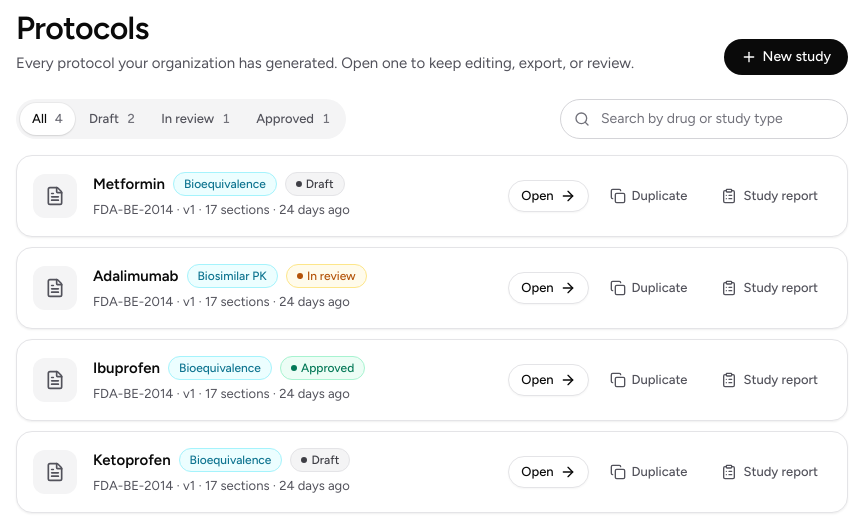
Test: Protocols page (ReportsView) › search filters by drug, brand name and study type, and combines with the tab
The width and height of the screenshot is (865, 531).
Expected: the heading "Metformin" is shown, [93,172,165,196]
Type "adal" into the search field with placeholder "Search by drug or study type". click: coordinates (704, 119)
box: [560,99,848,139]
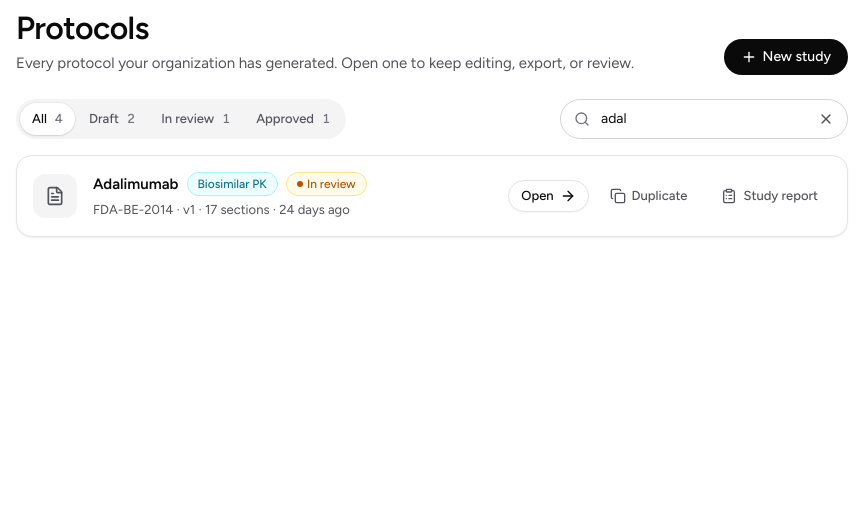
Replace the text in the search field named "Search protocols by drug or study type" with "humira". click: coordinates (704, 119)
box: [560,99,848,139]
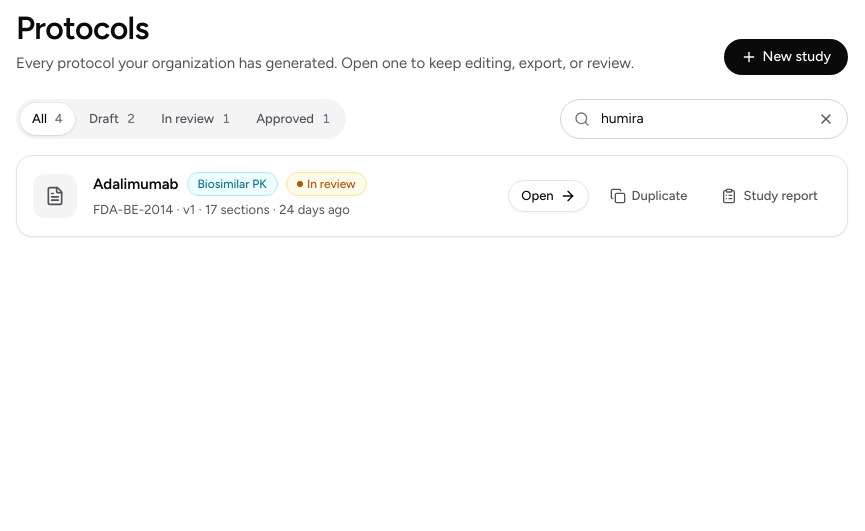
Replace the text in the search field named "Search protocols by drug or study type" with "profen". click: coordinates (704, 119)
box: [560,99,848,139]
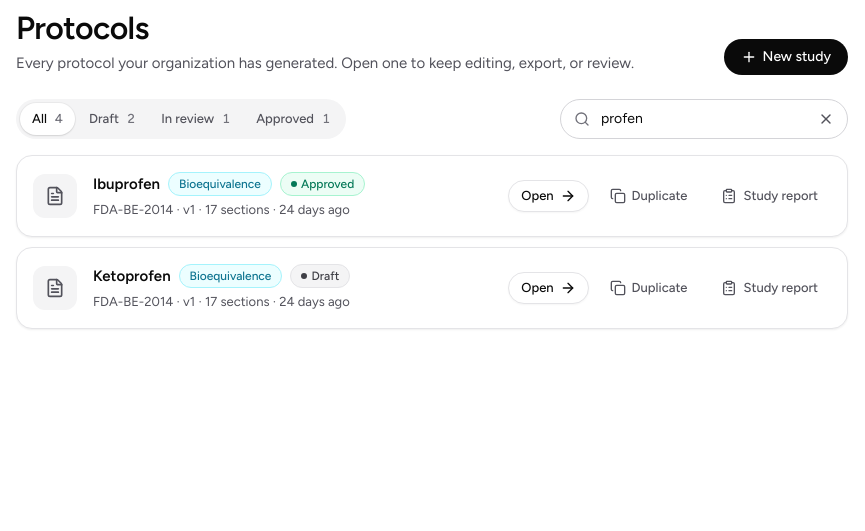
Click the tab "Approved 1". click: coordinates (293, 119)
box: [244,103,342,135]
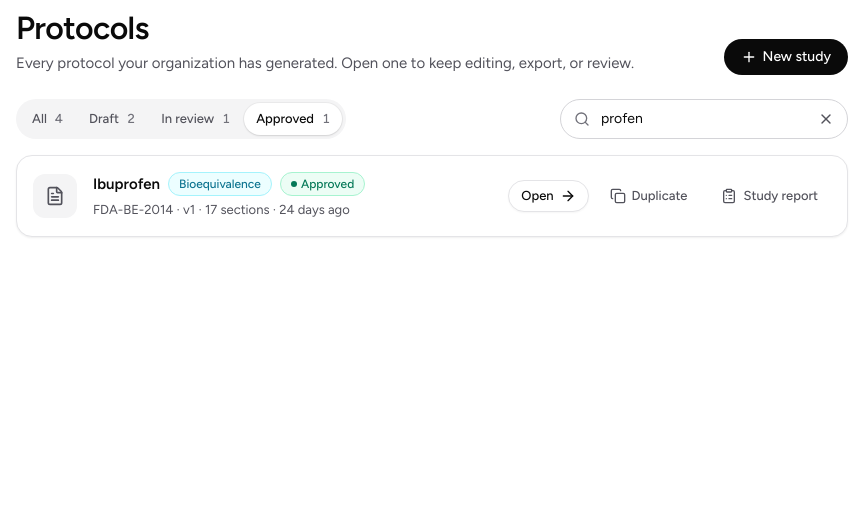
Replace the text in the search field named "Search protocols by drug or study type" with "zzz". click: coordinates (704, 119)
box: [560,99,848,139]
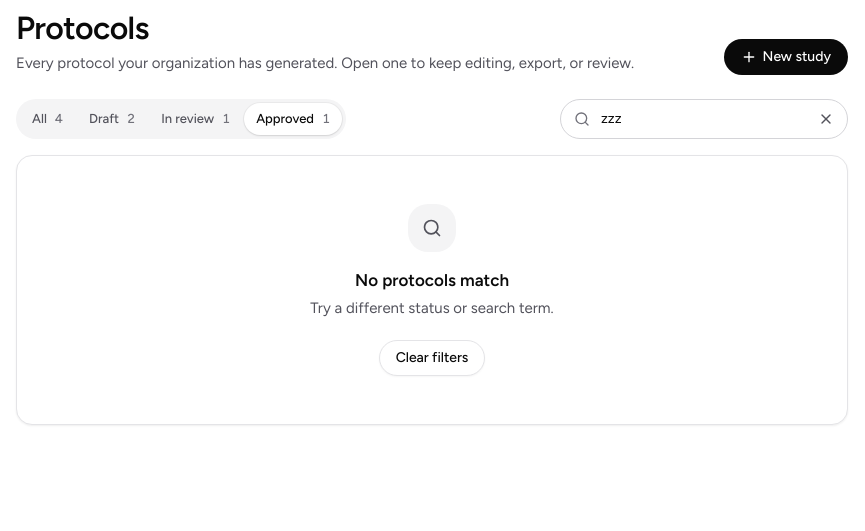
Result: the heading "No protocols match" is shown at [355,268,509,292]
Click the button "Clear filters". click: coordinates (432, 358)
box: [379,340,485,376]
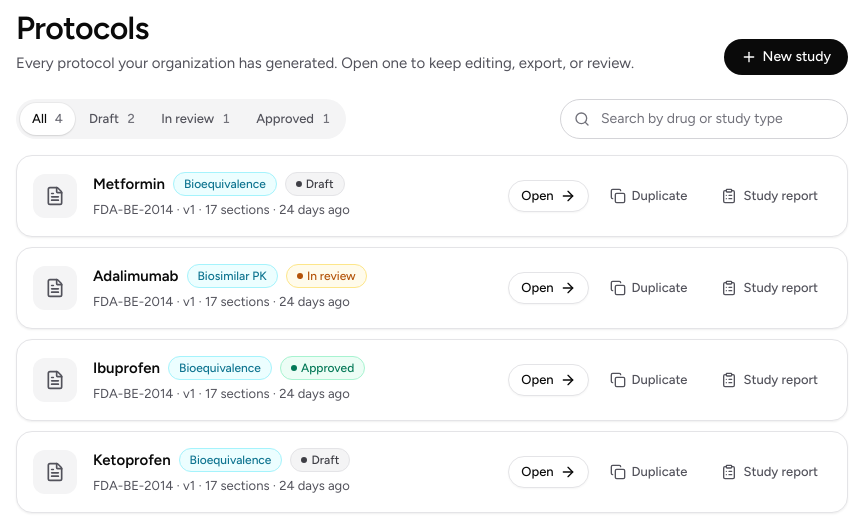
Result: the search field with placeholder "Search by drug or study type" is empty at [560,99,848,139]
